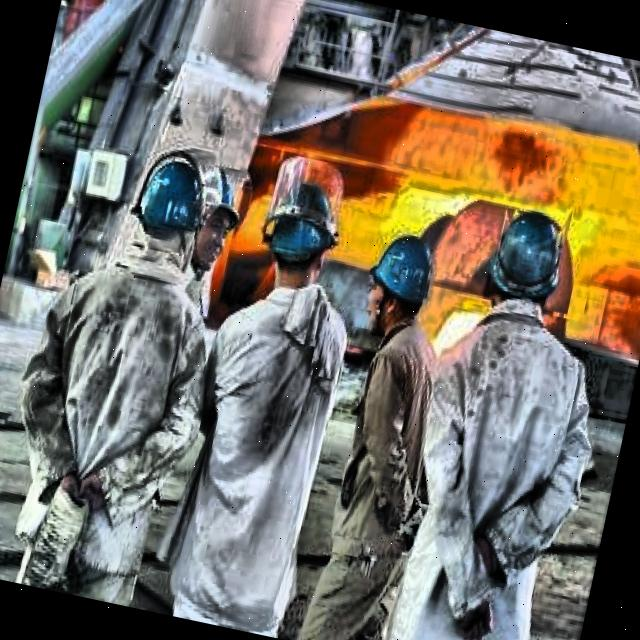helmet: (117, 143, 217, 291), (480, 208, 578, 324), (360, 217, 440, 339), (260, 182, 344, 296), (180, 162, 252, 268)
